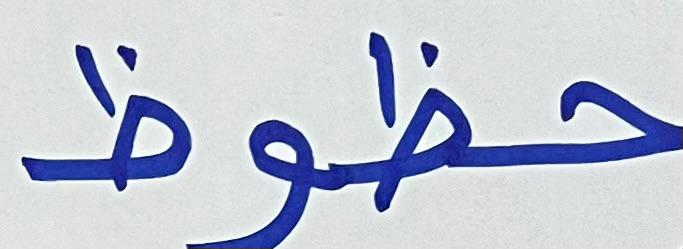hah: (488, 52, 666, 179)
waw: (199, 93, 327, 249)
zah: (14, 24, 195, 192), (333, 21, 483, 209)
